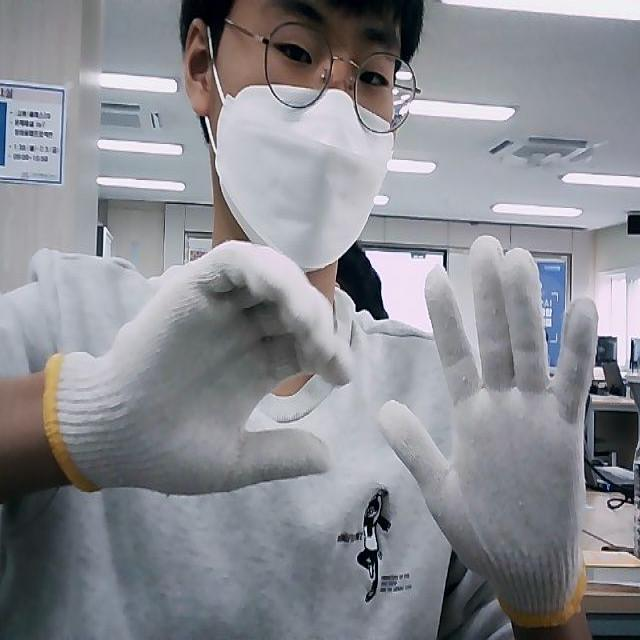GLOVE: (378, 234, 600, 627), (41, 237, 352, 500)
